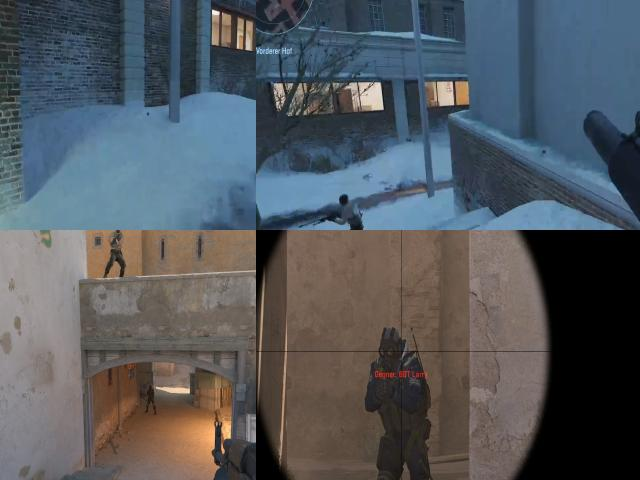CT: (368, 326, 436, 480), (146, 384, 154, 411)
CT-Head: (381, 330, 401, 364), (149, 384, 152, 390)
T: (335, 193, 367, 230), (108, 230, 124, 276)
T-Head: (337, 190, 351, 208), (115, 230, 121, 232)
